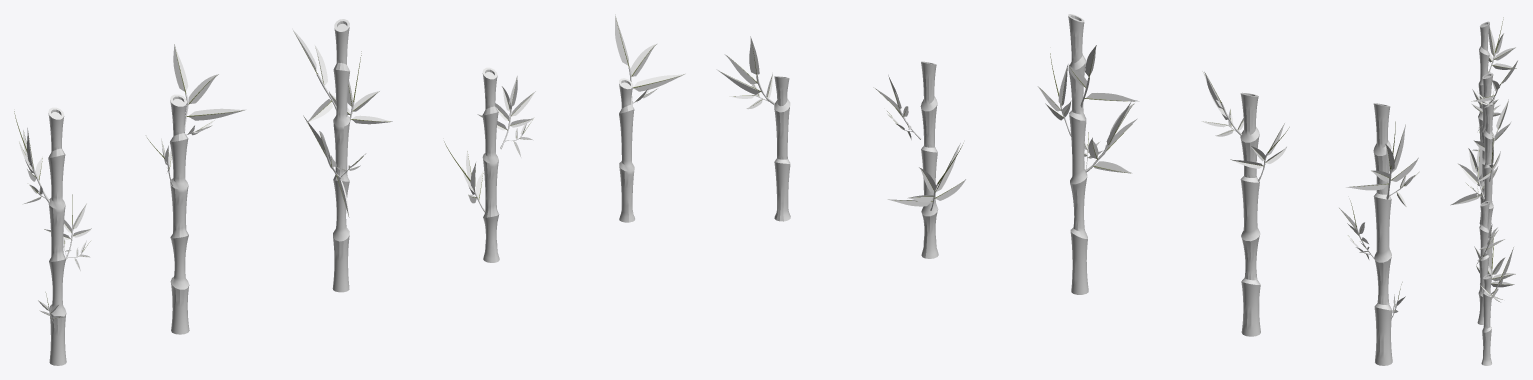
File: KleinesBambus_Lvl1.fbx
3 renders of one model, left to right at view 1: azimuth 30°, elevation 25°; view 2: azimuth 150°, elevation 25°; view 3: azimuth 270°, elevation 25°, orthographic. The views are drawn at different scales.
Parts seen in each view (by area): view 1: Cylinder.031, Cylinder.027, Cylinder.030, Cylinder.034, BambusSmallBranch3.001, Cylinder.035, BambusSmallBranch3.006, BambusSmallBranch3.003, BambusSmallBranch3.002, BambusSmallBranch3.007; view 2: Cylinder.031, Cylinder.027, Cylinder.030, Cylinder.034, BambusSmallBranch3.001, Cylinder.035, BambusSmallBranch3.002, BambusSmallBranch3.006, BambusSmallBranch3.003, BambusSmallBranch3.007, BambusSmallBranch3.005; view 3: BambusSmallBranch3.001, Cylinder.031, Cylinder.034, Cylinder.035, Cylinder.030, BambusSmallBranch3.006, Cylinder.027, BambusSmallBranch3.002, BambusSmallBranch3.003, BambusSmallBranch3.005, BambusSmallBranch3.007, BambusSmallBranch3.011 (+2 smaller).
Part boxes in pixels (x1,y1,x2,y2): Cylinder.031: (332,19,349,292); Cylinder.027: (170,94,189,334); Cylinder.030: (48,107,66,365); Cylinder.034: (482,67,499,262); BambusSmallBranch3.001: (292,29,392,217); Cylinder.035: (619,78,634,222); BambusSmallBranch3.006: (444,76,535,212); BambusSmallBranch3.003: (147,44,245,186); BambusSmallBranch3.002: (14,111,91,323); BambusSmallBranch3.007: (615,15,685,105); Cylinder.031: (1068,14,1088,294); Cylinder.027: (1240,92,1260,336); Cylinder.030: (1373,103,1392,365); Cylinder.034: (920,61,938,258); BambusSmallBranch3.001: (1037,45,1139,173); Cylinder.035: (774,76,790,221); BambusSmallBranch3.002: (1339,121,1418,318); BambusSmallBranch3.006: (873,75,965,210); BambusSmallBranch3.003: (1201,71,1289,181); BambusSmallBranch3.007: (716,36,774,109); BambusSmallBranch3.005: (1041,46,1133,173); BambusSmallBranch3.001: (1450,99,1510,205); Cylinder.031: (1483,104,1494,273); Cylinder.034: (1477,201,1489,324); Cylinder.035: (1481,273,1492,365); Cylinder.030: (1477,21,1489,186); BambusSmallBranch3.006: (1474,224,1515,287); Cylinder.027: (1479,73,1493,224); BambusSmallBranch3.002: (1472,17,1516,151); BambusSmallBranch3.003: (1471,60,1517,116); BambusSmallBranch3.005: (1454,104,1510,204); BambusSmallBranch3.007: (1479,247,1513,302); BambusSmallBranch3.011: (1473,25,1512,150).
Size of the model in its own units: 637 by 245 by 88.47.
